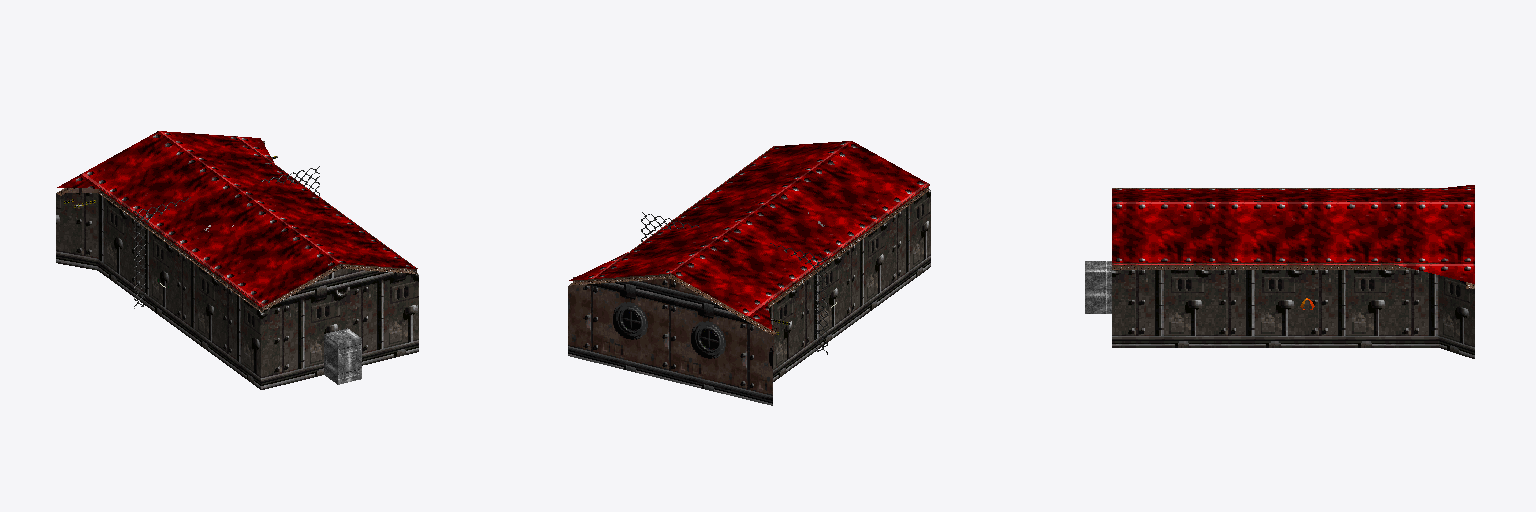
The picture shows the model from 3 angles: view 1: azimuth 30°, elevation 25°; view 2: azimuth 150°, elevation 25°; view 3: azimuth 270°, elevation 25°; orthographic projection.
Parts seen in each view (by area): view 1: room0AMain#Room0; view 2: room0AMain#Room0; view 3: room0AMain#Room0.
Part boxes in pixels (bbox=[...]): room0AMain#Room0: bbox=[56, 131, 418, 389]; room0AMain#Room0: bbox=[568, 141, 930, 405]; room0AMain#Room0: bbox=[1085, 185, 1474, 358].
Bounding box in the file's own units: 520 × 261 × 861.
38 materials, 26 textured.